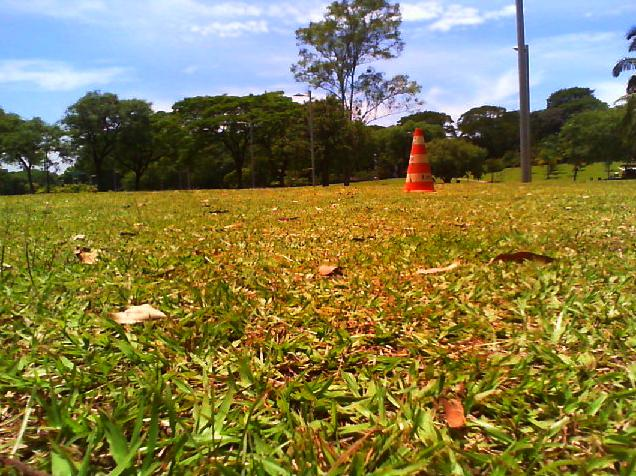0 cone: (404, 128, 437, 193)
